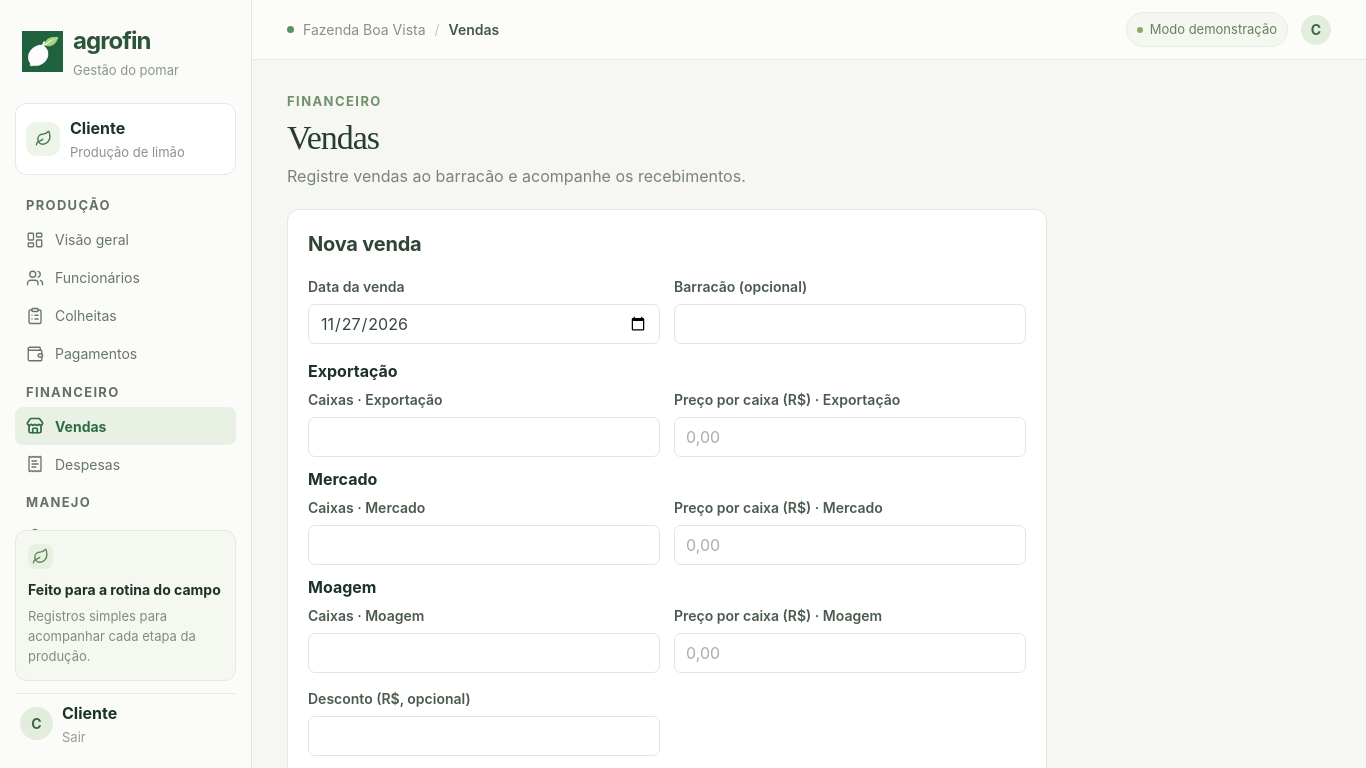
Test: impede desconto acima do bruto e exige motivo quando há desconto
Type "1" into the field labelled "Caixas · Exportação" at (484, 437), box [308,417,660,457]
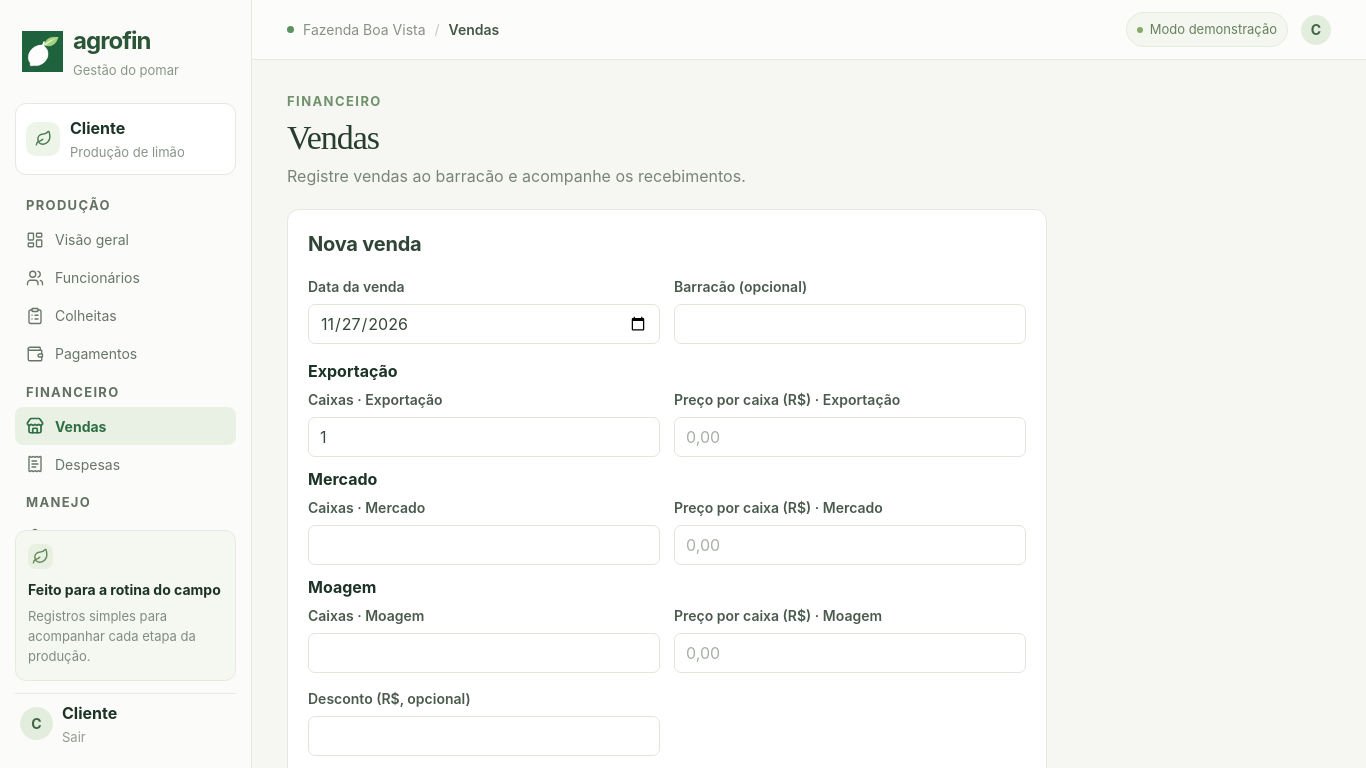
Type "20,00" into the field labelled "Preço por caixa (R$) · Exportação" at (850, 437), box [674,417,1026,457]
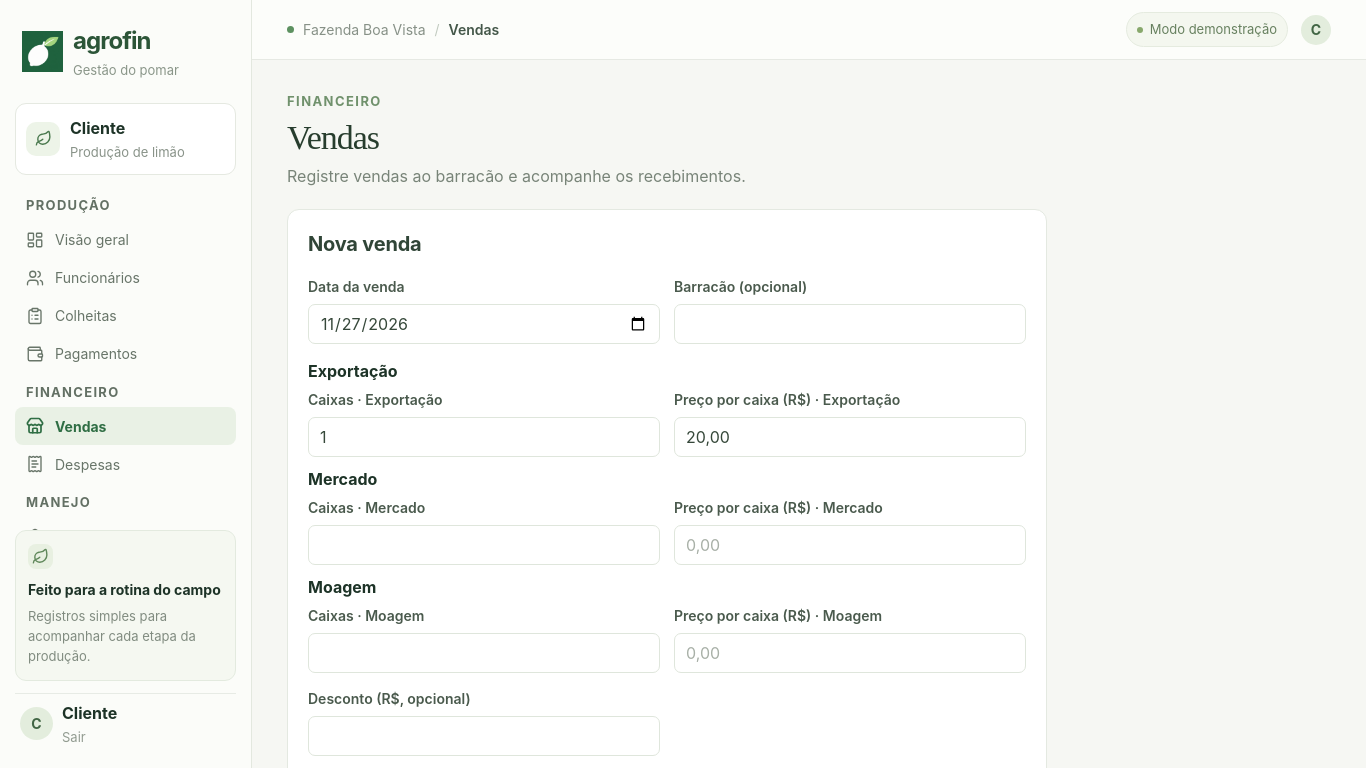
Type "25,00" into the field labelled "Desconto (R$, opcional)" at (484, 736), box [308,716,660,756]
(page scrolled)
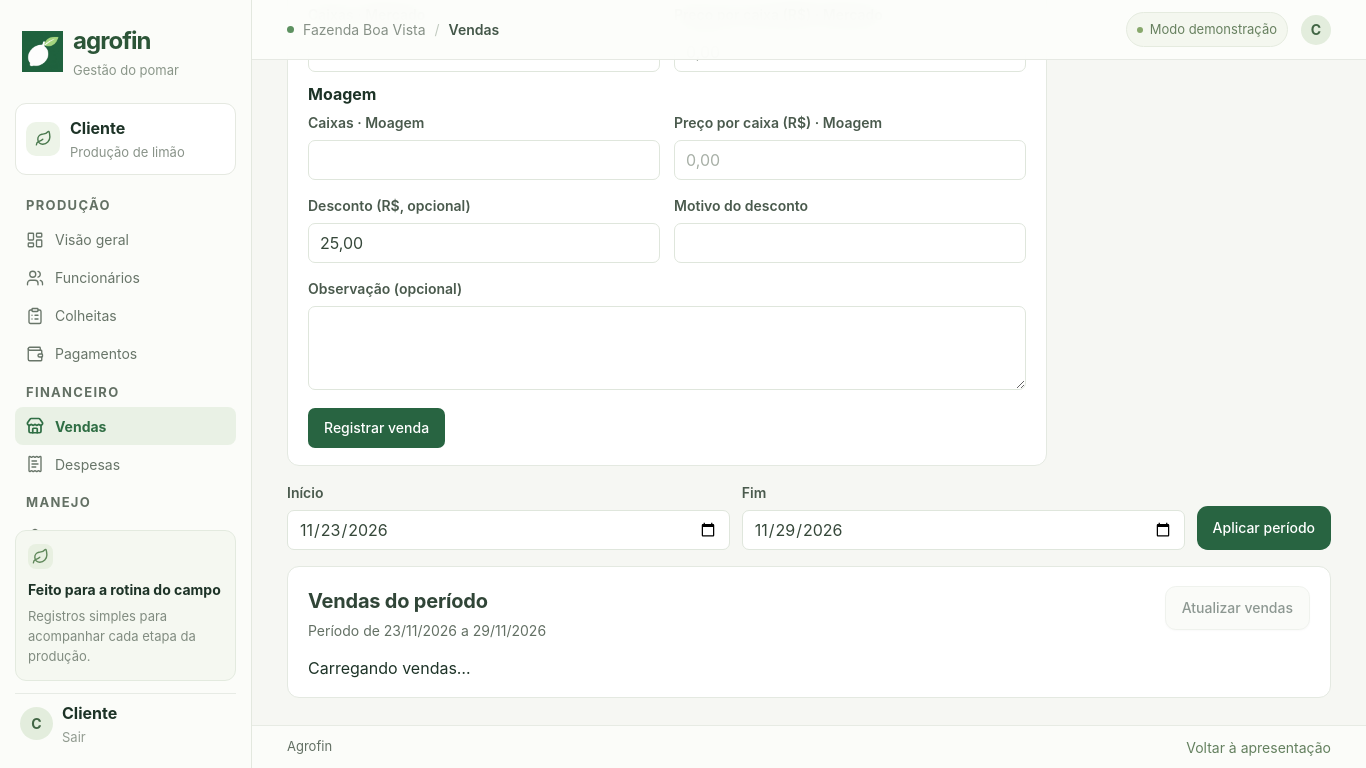
Click the button "Registrar venda" at (377, 428), box [308,408,445,448]
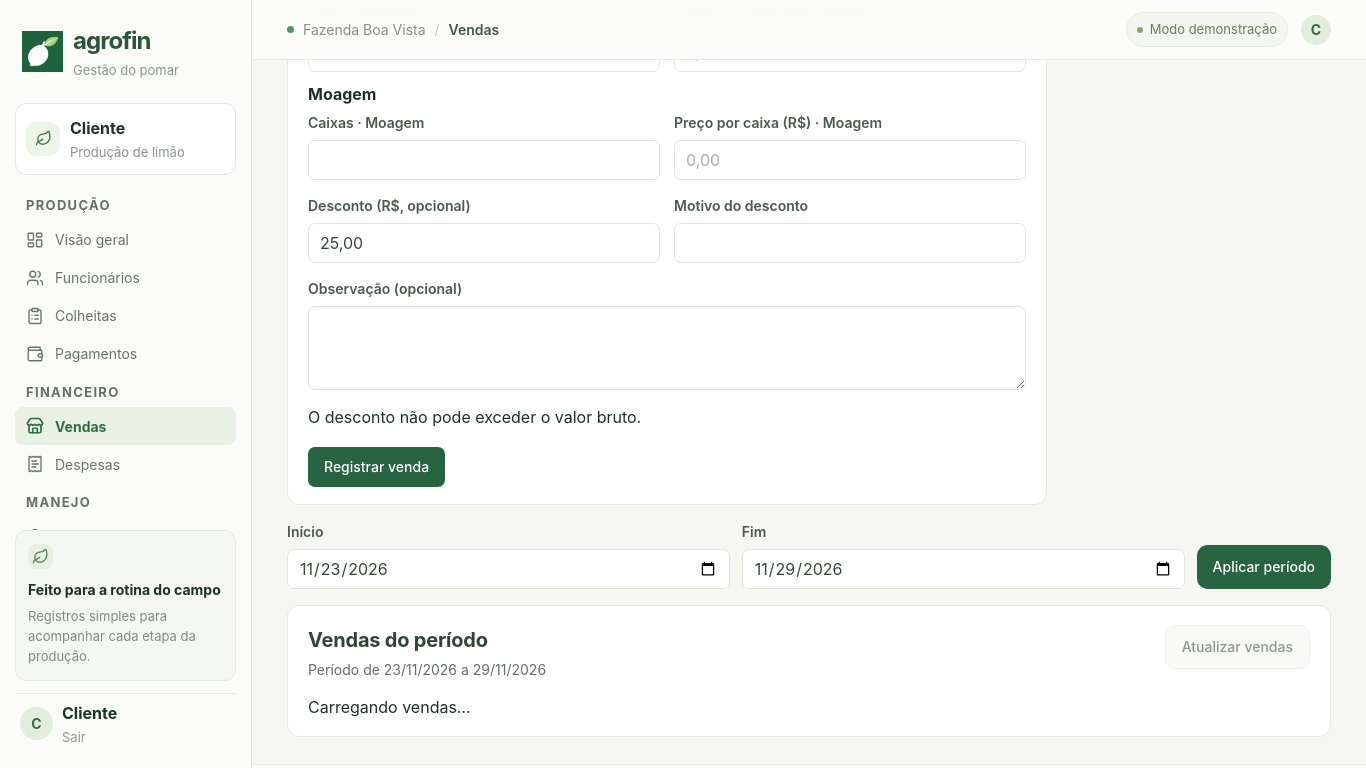
Check: the list item "O desconto não pode exceder o valor bruto." is shown, box [308,407,641,427]
Replace the text in the field labelled "Desconto (R$, opcional)" with "10,00" at (484, 243), box [308,223,660,263]
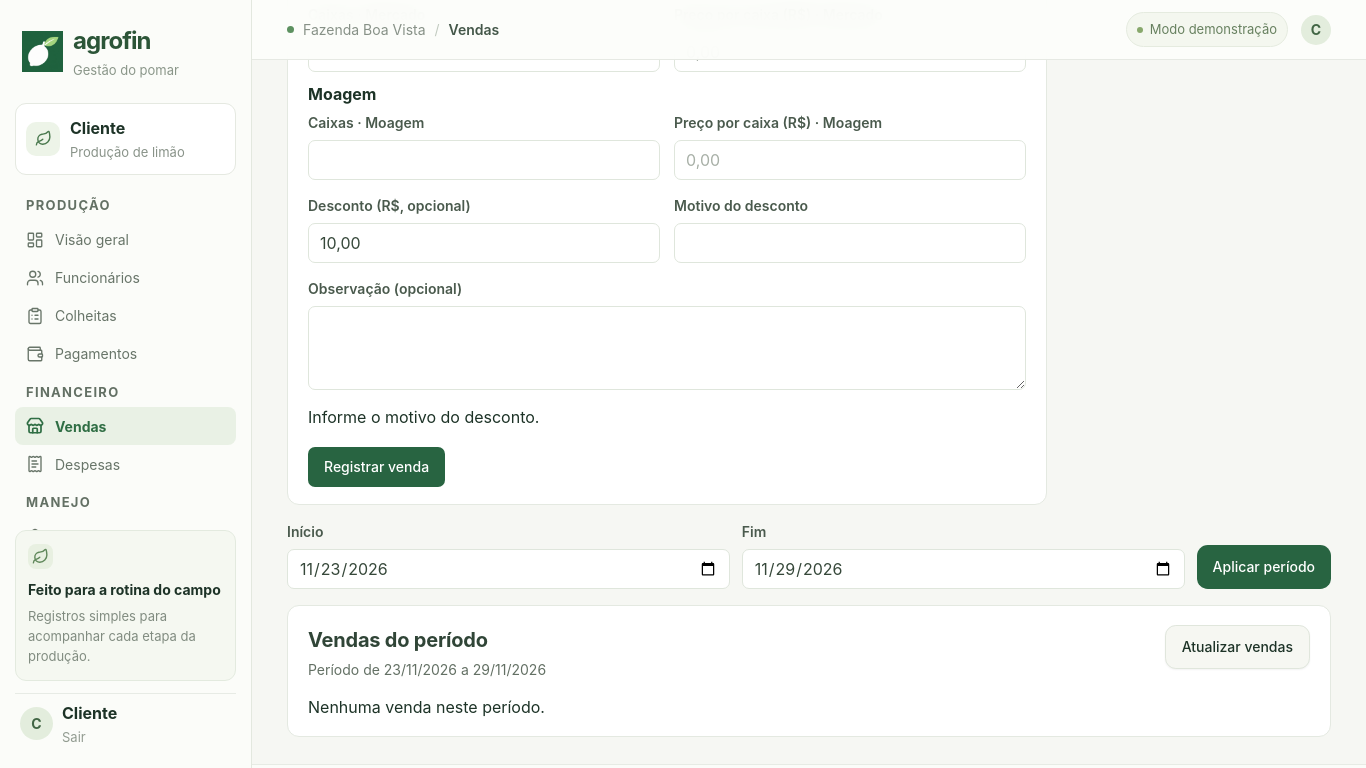
Check: the list item "Informe o motivo do desconto." is shown, box [308,407,539,427]
